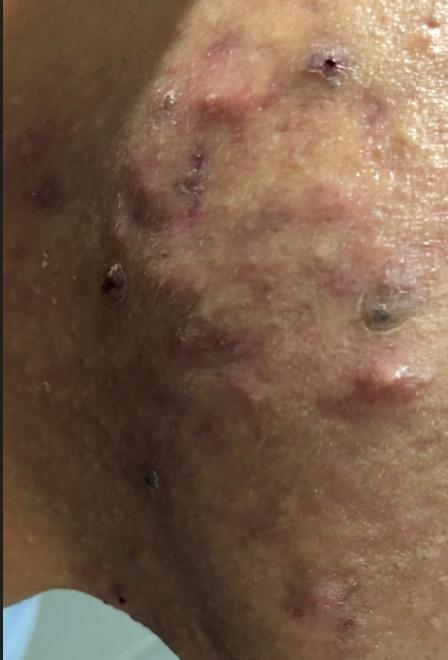cystic: (356, 360, 437, 416)
purulent: (191, 74, 242, 142)
sebo-crystan-conglo: (300, 43, 366, 100), (362, 276, 408, 345), (104, 250, 137, 316), (186, 322, 240, 362), (126, 176, 171, 219)
whitehead: (47, 382, 95, 432), (132, 533, 164, 590), (237, 247, 281, 273), (311, 246, 336, 280)
